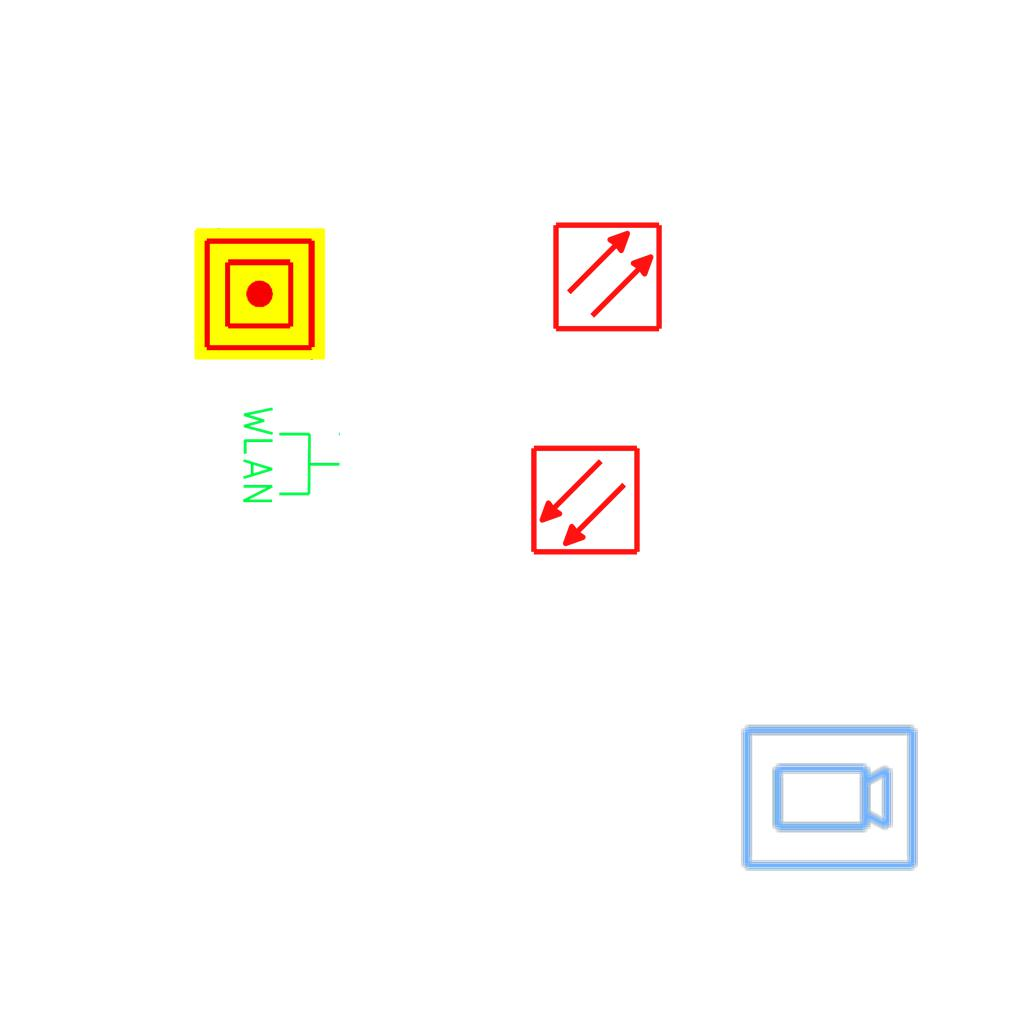KFO_Kamera_mit_Festobjektiv: (738, 722, 920, 876)
NAM-Nichtautomatischer_Melder: (194, 228, 326, 360)
RMO_Rauchmelder_optischer: (551, 220, 664, 333), (529, 444, 642, 557)
WLAN: (239, 402, 343, 507)
